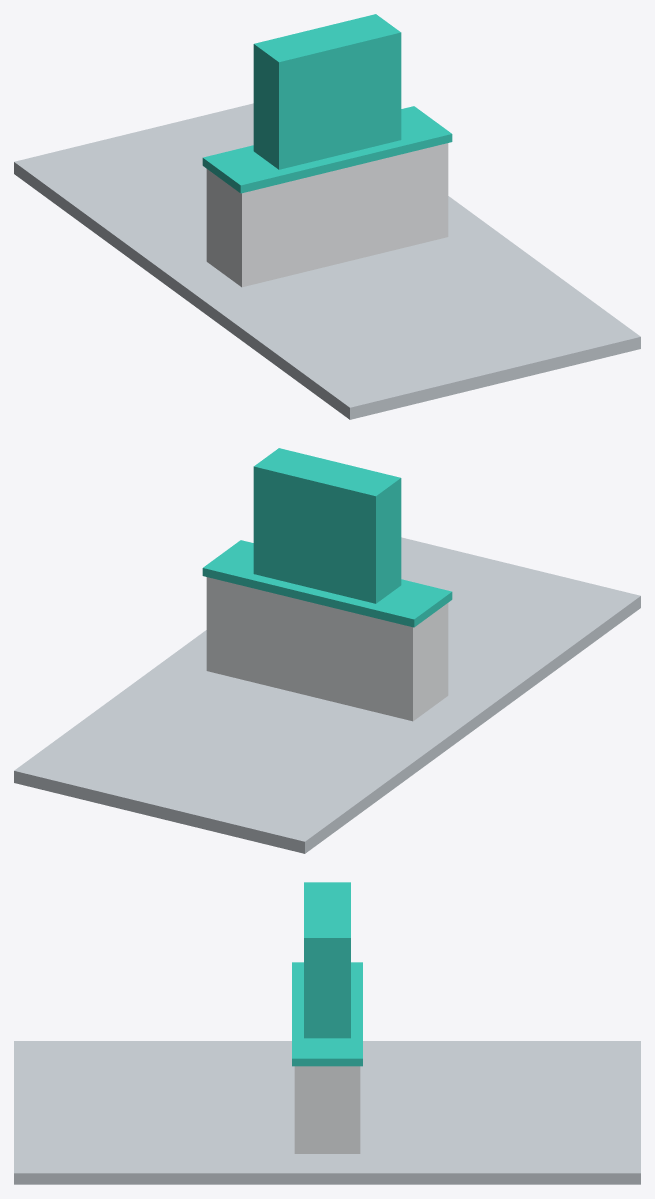
The picture shows the model from 3 angles, top to bottom: view 1: azimuth 30°, elevation 25°; view 2: azimuth 150°, elevation 25°; view 3: azimuth 270°, elevation 25°; orthographic projection. The views are drawn at different scales.
Visible parts, largest first — view 1: Exhibition Booth Concept; view 2: Exhibition Booth Concept; view 3: Exhibition Booth Concept.
Boxes of the visible parts, <box> form: Exhibition Booth Concept: <box>14,14,640,419</box>; Exhibition Booth Concept: <box>14,448,640,853</box>; Exhibition Booth Concept: <box>14,882,640,1184</box>.
Bounding box in the file's own units: 3 × 2.2 × 6.
